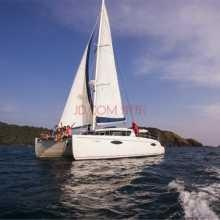fanchuan: (29, 1, 166, 160)
